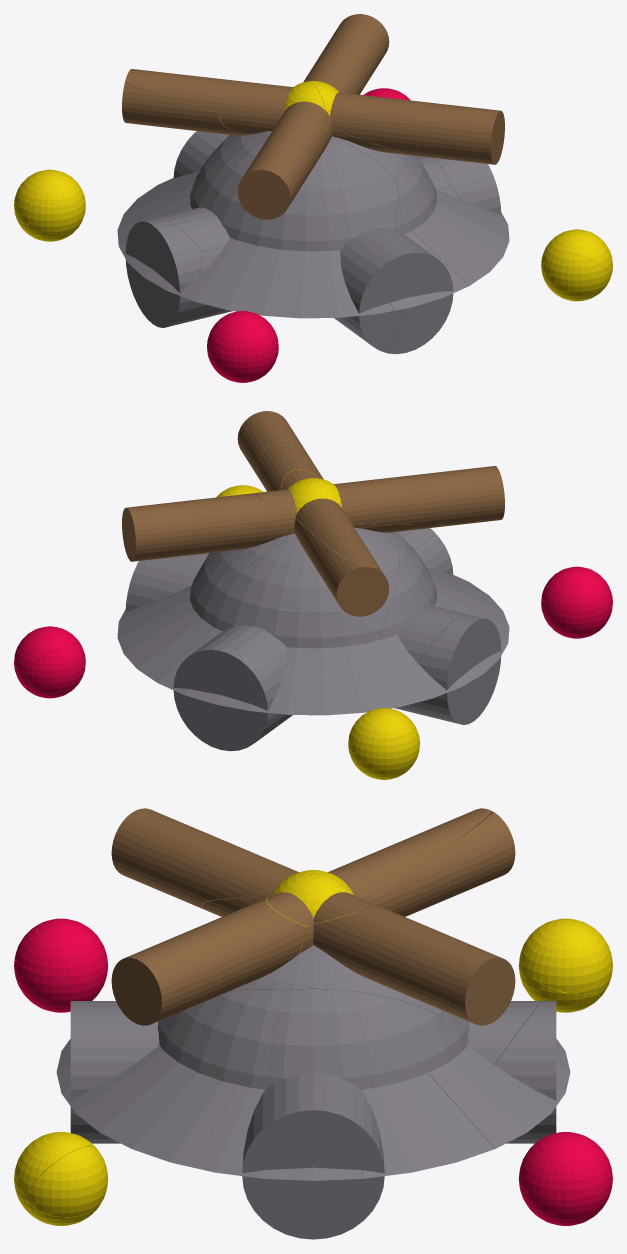
Rendered from LandBunkerDebris.dae.
3 views of the same model, one above another, from view 1: azimuth 30°, elevation 25°; view 2: azimuth 150°, elevation 25°; view 3: azimuth 270°, elevation 25° (orthographic). The views are drawn at different scales.
Parts seen in each view (by area): view 1: Sphere.004_cell.001, Cone_cell.005, Sphere_cell.007, Cylinder.005_cell.001, Cone_cell.002, Sphere.004_cell.005, Cylinder.006_cell, Sphere.004_cell, Sphere_cell.005, Sphere.004_cell.002, Cylinder.006_cell.003, Sphere.004_cell.006 (+23 smaller); view 2: Sphere.004_cell.001, Cone_cell.001, Sphere.004_cell.002, Sphere_cell.004, Cylinder.001_cell, Cylinder.005_cell.001, Sphere_cell.001, Sphere.004_cell.006, Cone_cell.004, Sphere.002_cell.001, Sphere_cell.005, Cone_cell.005 (+21 smaller); view 3: Sphere.004_cell.001, Sphere_cell.006, Sphere.004_cell.002, Cone_cell.002, Cylinder.000_cell.001, Sphere_cell.002, Cone_cell.007, Sphere.004_cell.005, Cylinder.000_cell, Sphere.004_cell.006, Cone_cell.004, Cylinder.006_cell (+22 smaller).
Boxes of the visible parts, bbox=[...] form: Sphere.004_cell.001: bbox=[125, 70, 326, 219]; Cone_cell.005: bbox=[166, 237, 393, 318]; Sphere_cell.007: bbox=[288, 137, 397, 250]; Cylinder.005_cell.001: bbox=[125, 217, 202, 327]; Cone_cell.002: bbox=[412, 197, 509, 285]; Sphere.004_cell.005: bbox=[417, 103, 504, 164]; Cylinder.006_cell: bbox=[343, 228, 450, 298]; Sphere.004_cell: bbox=[326, 95, 430, 155]; Sphere_cell.005: bbox=[190, 176, 321, 251]; Sphere.004_cell.002: bbox=[303, 14, 389, 94]; Cylinder.006_cell.003: bbox=[335, 248, 403, 353]; Sphere.004_cell.006: bbox=[122, 69, 253, 135]; Sphere.004_cell.001: bbox=[292, 466, 504, 569]; Cone_cell.001: bbox=[269, 634, 499, 715]; Sphere.004_cell.002: bbox=[122, 492, 293, 561]; Sphere_cell.004: bbox=[223, 531, 399, 633]; Cylinder.001_cell: bbox=[173, 641, 267, 751]; Cylinder.005_cell.001: bbox=[401, 613, 501, 724]; Sphere_cell.001: bbox=[206, 594, 382, 648]; Sphere.004_cell.006: bbox=[283, 518, 389, 616]; Cone_cell.004: bbox=[124, 610, 222, 688]; Sphere.002_cell.001: bbox=[542, 566, 612, 618]; Sphere_cell.005: bbox=[379, 546, 437, 638]; Cone_cell.005: bbox=[427, 568, 509, 658]; Sphere.004_cell.001: bbox=[111, 808, 492, 907]; Sphere_cell.006: bbox=[267, 989, 452, 1089]; Sphere.004_cell.002: bbox=[312, 902, 515, 1025]; Cone_cell.002: bbox=[76, 1051, 236, 1167]; Cylinder.000_cell.001: bbox=[242, 1083, 372, 1210]; Sphere_cell.002: bbox=[158, 989, 283, 1089]; Cone_cell.007: bbox=[361, 1073, 494, 1178]; Sphere.004_cell.005: bbox=[111, 930, 232, 1025]; Cylinder.000_cell: bbox=[254, 1112, 384, 1239]; Sphere.004_cell.006: bbox=[359, 812, 515, 916]; Cone_cell.004: bbox=[428, 1045, 557, 1148]; Cylinder.006_cell: bbox=[70, 1001, 159, 1082].
Size of the model in its own units: 5.24 by 5.24 by 2.54.
